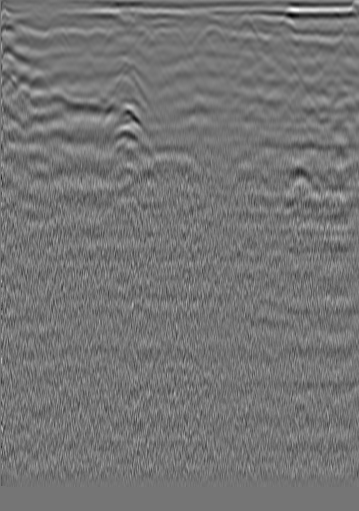가스: (105, 124, 141, 159)
상수: (26, 32, 46, 52)
오수: (293, 34, 313, 54)
우수: (161, 29, 181, 49)
